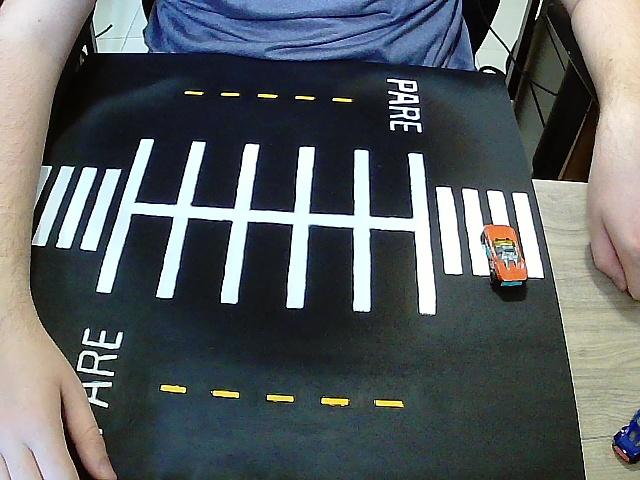Carro: (480, 226, 528, 287)
